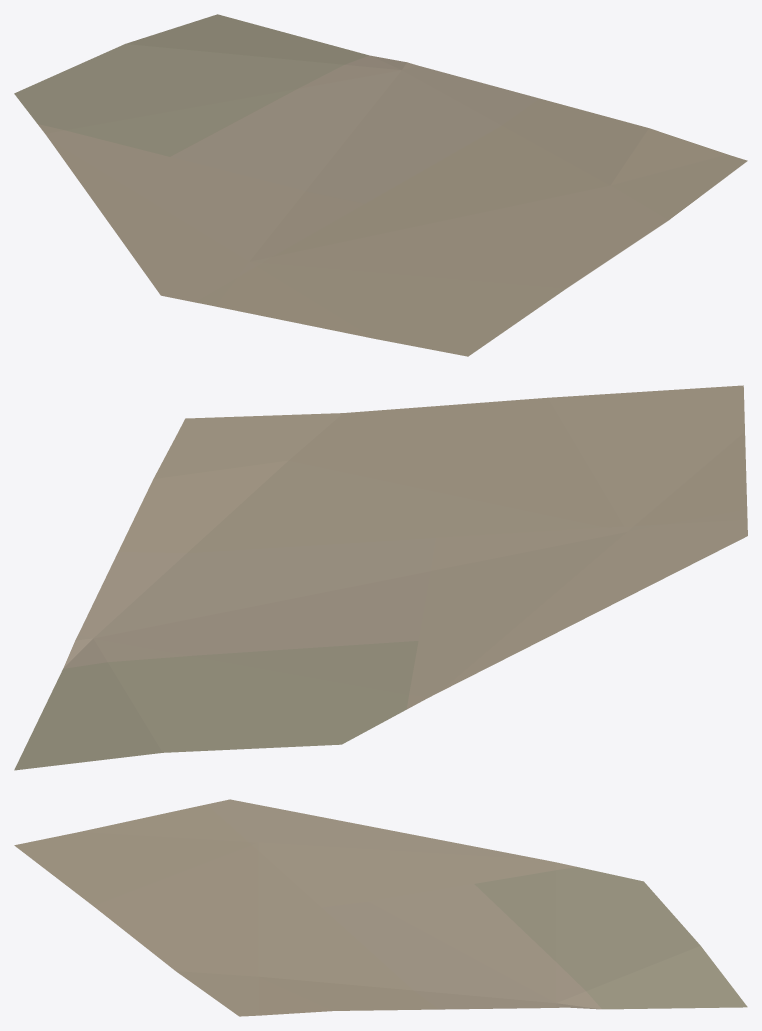
File: farm_-14_-11_soil.glb
3 views of the same model, one above another, from view 1: azimuth 30°, elevation 25°; view 2: azimuth 150°, elevation 25°; view 3: azimuth 270°, elevation 25° (orthographic). The views are drawn at different scales.
Visible parts, largest first — view 1: geometry_0; view 2: geometry_0; view 3: geometry_0.
Part boxes in pixels (bbox=[...]): geometry_0: bbox=[14, 14, 747, 356]; geometry_0: bbox=[14, 385, 747, 770]; geometry_0: bbox=[14, 799, 747, 1016].
Size of the model in its own units: 132 by 20.86 by 197.
